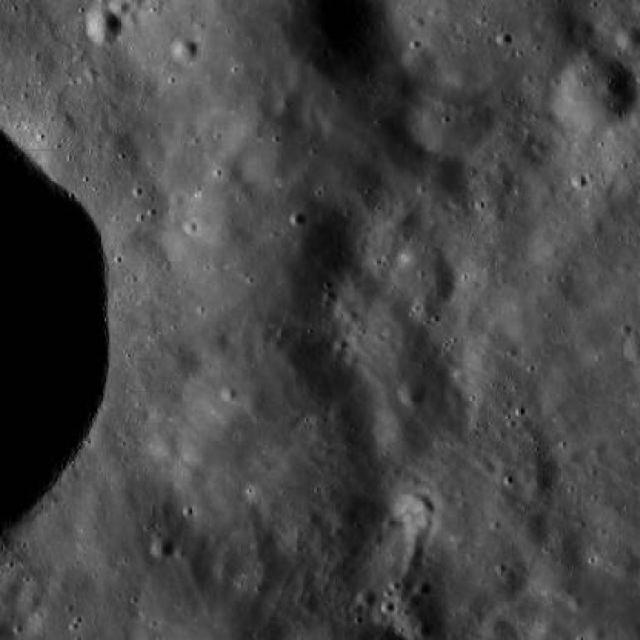crater: (168, 332, 384, 538), (372, 366, 474, 464), (552, 52, 640, 136), (348, 304, 434, 384), (415, 84, 493, 158), (392, 243, 456, 306), (460, 334, 523, 394), (414, 153, 472, 209), (377, 135, 434, 191), (335, 158, 388, 210), (244, 146, 290, 188), (84, 7, 124, 46), (442, 53, 480, 90), (514, 516, 552, 552), (102, 134, 138, 168), (402, 46, 436, 79), (391, 205, 420, 233), (198, 332, 228, 359), (222, 225, 252, 252), (152, 431, 180, 458), (404, 521, 432, 547), (412, 296, 438, 322), (400, 380, 426, 406), (16, 590, 42, 615), (213, 552, 239, 577), (482, 200, 508, 225), (172, 38, 198, 62), (0, 578, 23, 604), (243, 390, 268, 413), (150, 536, 176, 558), (524, 26, 548, 48), (412, 492, 434, 514), (533, 472, 555, 492), (278, 93, 298, 113), (302, 595, 322, 614), (356, 588, 376, 607), (576, 22, 596, 40), (408, 542, 427, 560), (403, 557, 422, 574), (586, 218, 602, 236), (416, 620, 432, 638), (586, 626, 606, 640), (496, 31, 513, 47), (566, 448, 583, 463), (110, 0, 128, 14), (592, 437, 608, 452)
